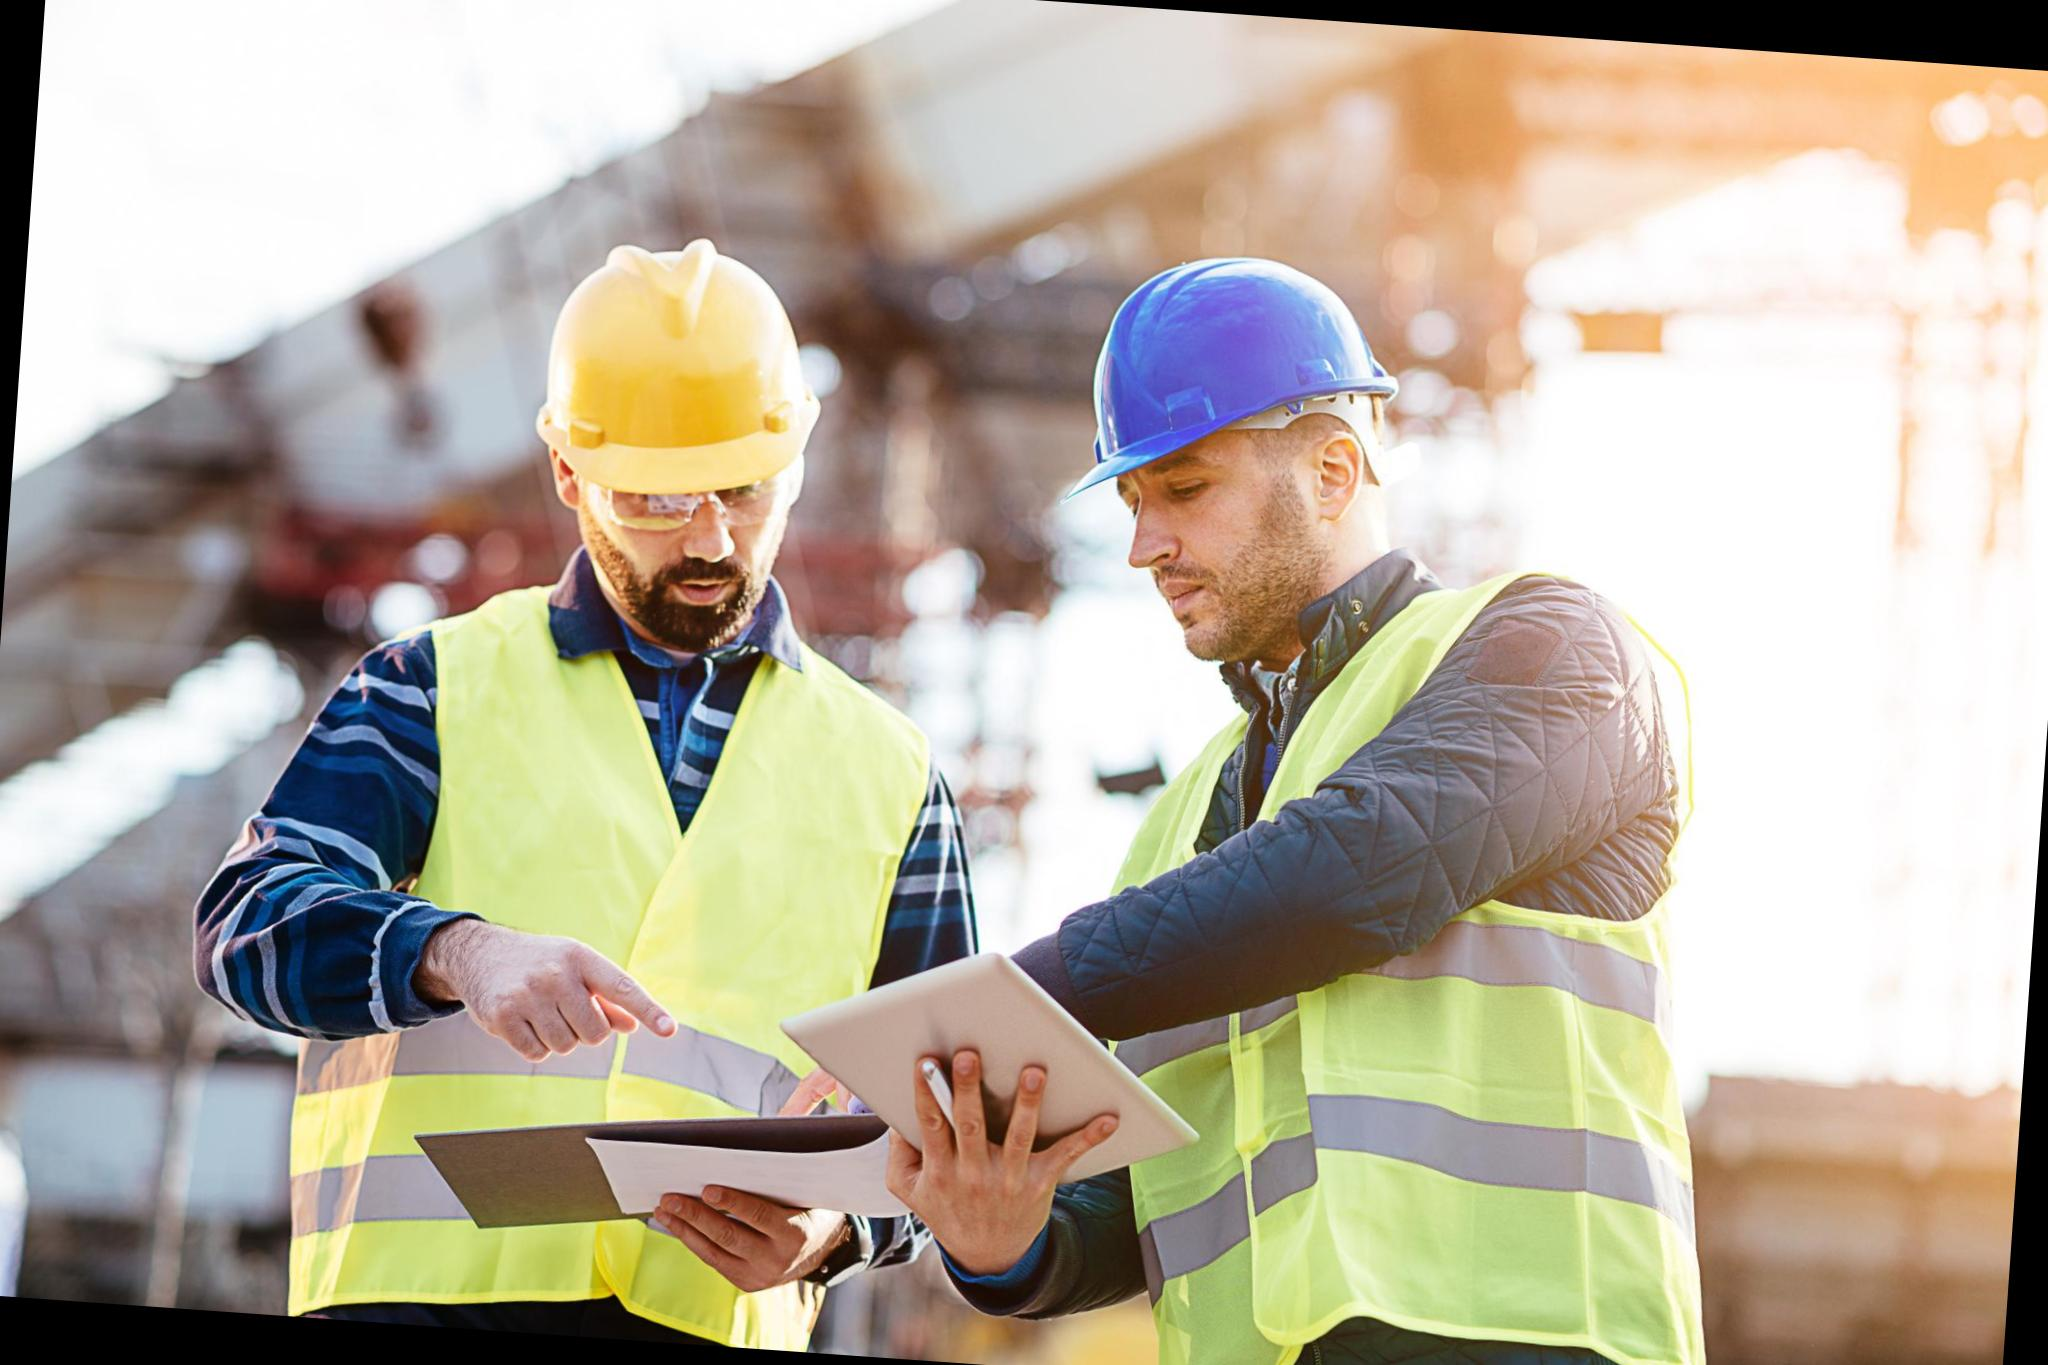Vest: (1042, 539, 1698, 1365), (353, 580, 958, 1359)
